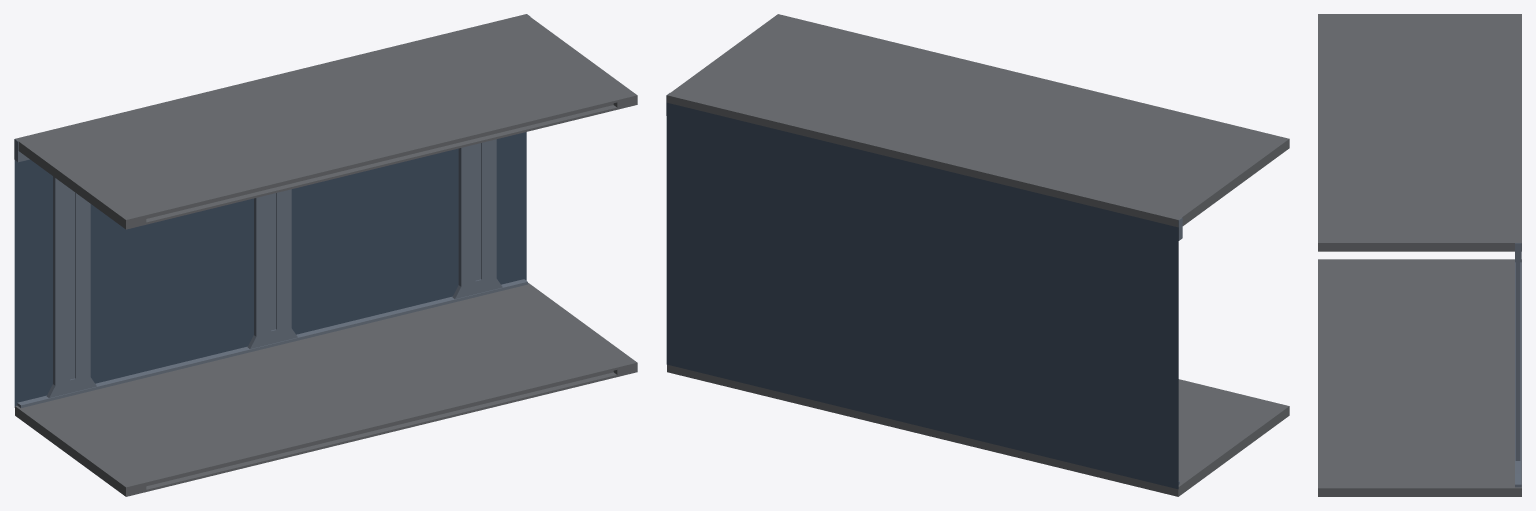
The model's file is COMBINED_BG_FLOORS_BG_INCLUDED.fbx.
3 renders of one model, left to right at view 1: azimuth 30°, elevation 25°; view 2: azimuth 150°, elevation 25°; view 3: azimuth 270°, elevation 25°, orthographic. The views are drawn at different scales.
Parts seen in each view (by area): view 1: pasted__pCube1; view 2: pasted__pCube1; view 3: pasted__pCube1.
Boxes of the visible parts, x1=… form: pasted__pCube1: x1=14, y1=14, x2=637, y2=496; pasted__pCube1: x1=666, y1=14, x2=1289, y2=496; pasted__pCube1: x1=1318, y1=14, x2=1521, y2=496.
Bounding box in the file's own units: 25.95 × 13.4 × 9.74.
